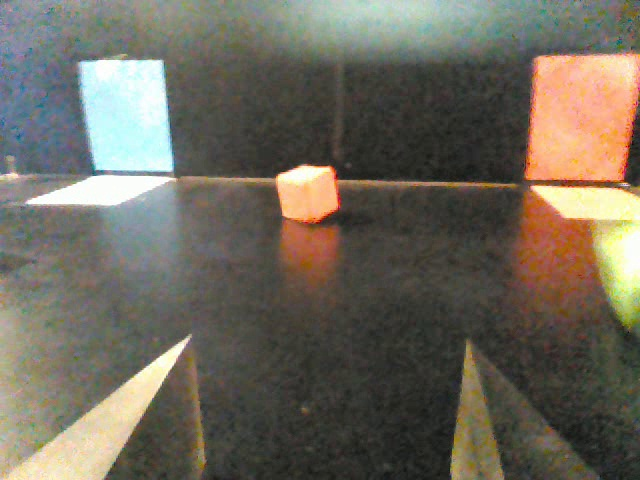cube: (592, 223, 640, 347), (273, 163, 343, 229)
